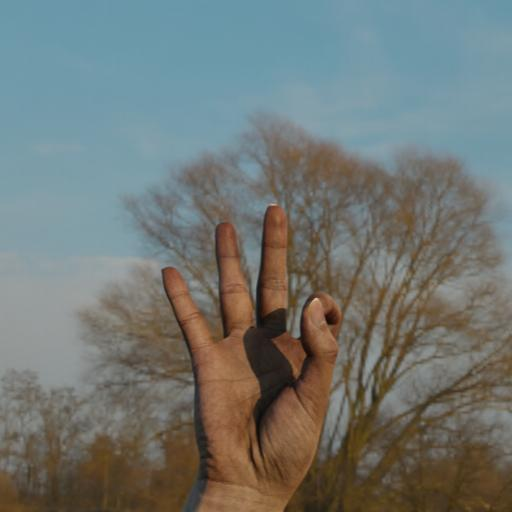F: (134, 189, 366, 512)
